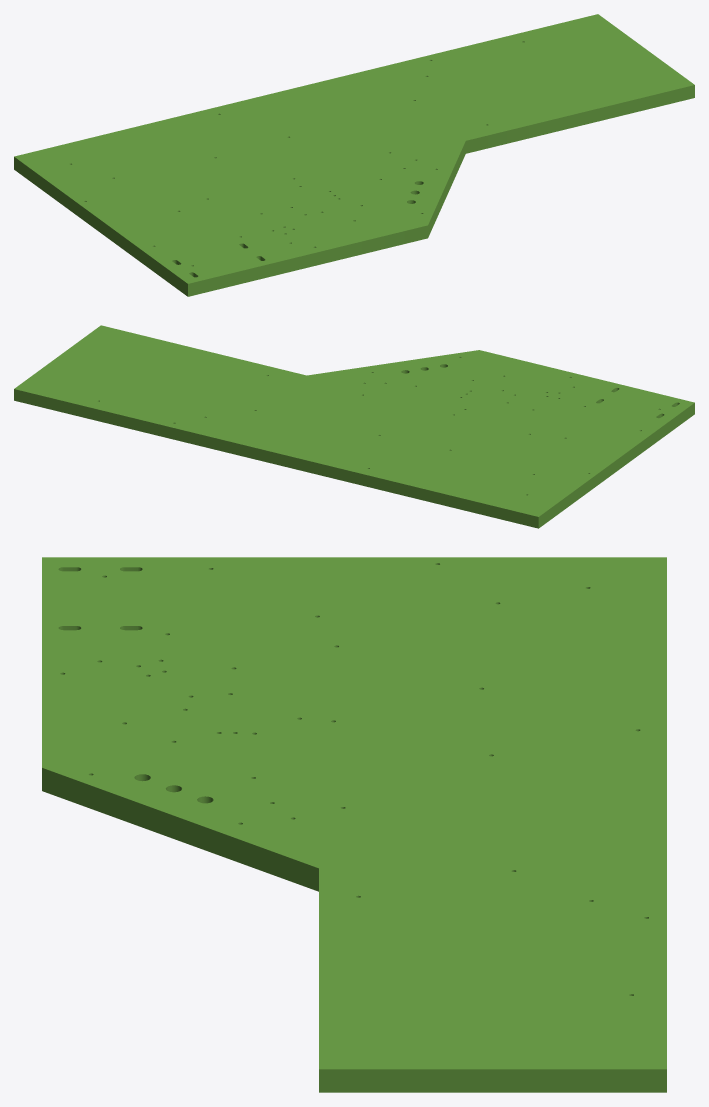
File: pcbboard.glb
3 renders of one model, top to bottom at view 1: azimuth 30°, elevation 25°; view 2: azimuth 150°, elevation 25°; view 3: azimuth 270°, elevation 25°, orthographic. The views are drawn at different scales.
Visible parts, largest first — view 1: PCB_board.blend.001; view 2: PCB_board.blend.001; view 3: PCB_board.blend.001.
Part boxes in pixels (x1,y1,x2,y2): PCB_board.blend.001: [14, 14, 694, 296]; PCB_board.blend.001: [14, 325, 694, 528]; PCB_board.blend.001: [42, 557, 666, 1092].
Size of the model in its own units: 3.76 by 0.0799 by 1.94.
